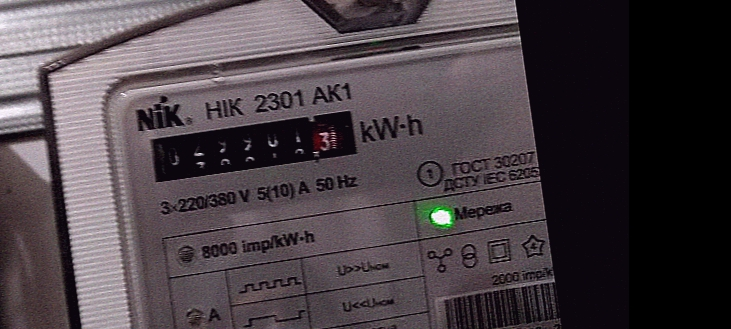0: (263, 124, 281, 150), (164, 144, 183, 167)
1: (288, 121, 304, 146)
2: (188, 138, 207, 159)
3: (316, 128, 332, 152)
9: (239, 129, 256, 153), (214, 133, 229, 156)
screen: (136, 99, 369, 194)
